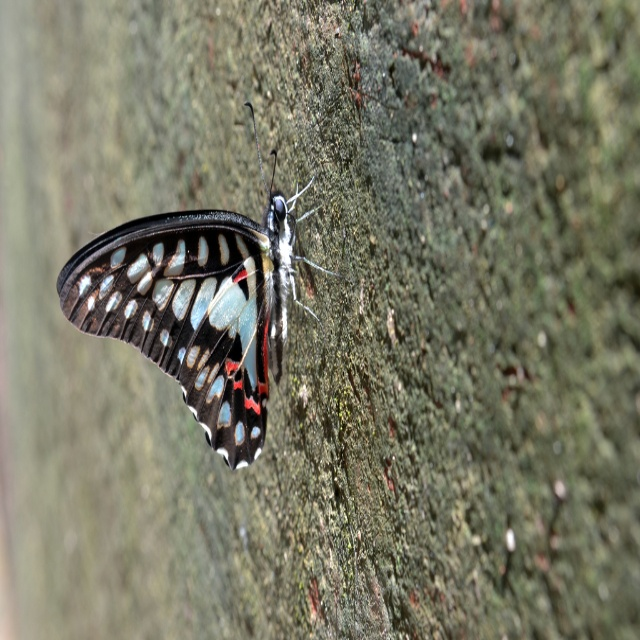Butterfly: (61, 100, 324, 470)
